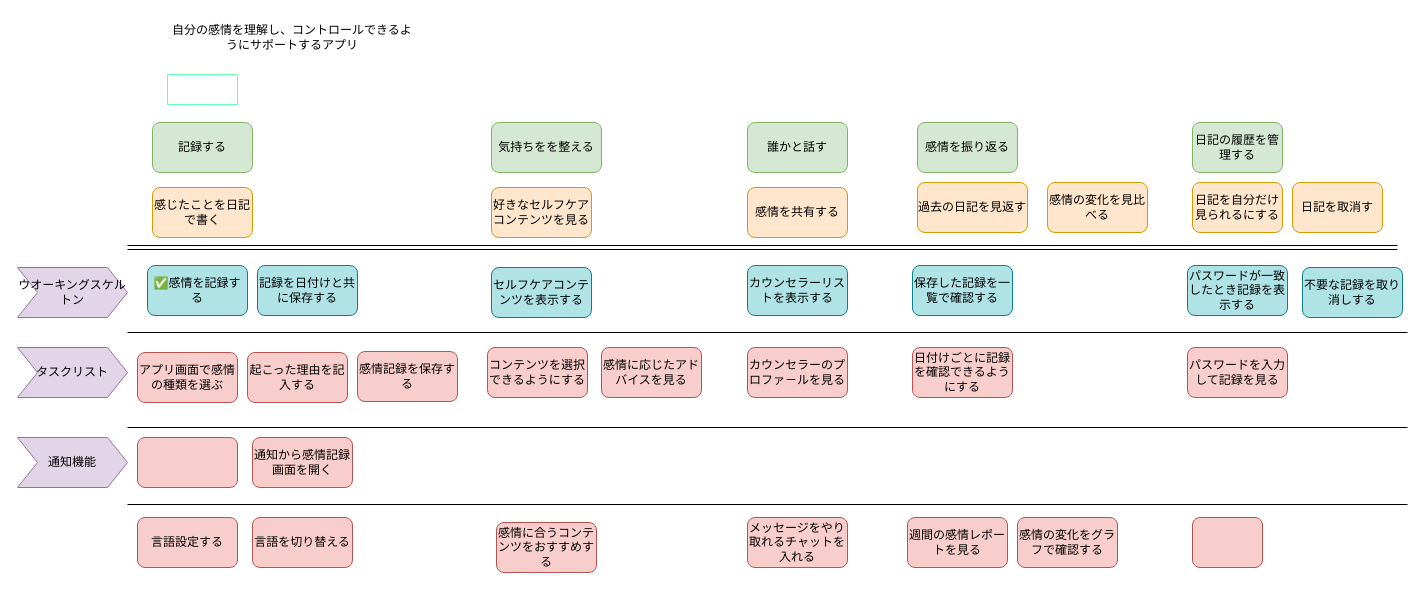
Some shapes in this 1426 by 590 pixel diagram are drawn without their labels. Each missing label, with the centre of its shape:
"日付で履歴を検索する" belongs at (1227,542).
"時間を設定し、翌日に感情の状態を聞く通知が来る" belongs at (187,462).
"自己理解を深めたい人" belongs at (202,89).
